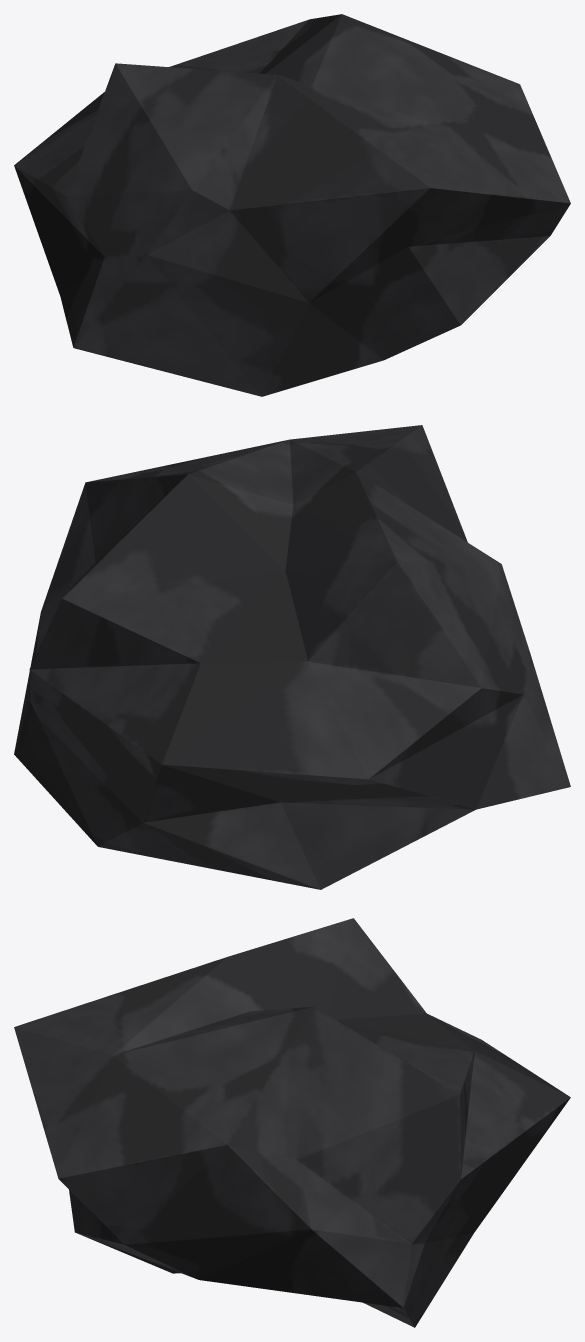
Rendered from coal.glb.
3 views of the same model, one above another, from view 1: azimuth 30°, elevation 25°; view 2: azimuth 150°, elevation 25°; view 3: azimuth 270°, elevation 25° (orthographic). The views are drawn at different scales.
Parts seen in each view (by area): view 1: stone_1; view 2: stone_1; view 3: stone_1.
Boxes of the visible parts, bbox=[...] form: stone_1: bbox=[14, 14, 570, 396]; stone_1: bbox=[14, 425, 570, 889]; stone_1: bbox=[14, 918, 570, 1327].
Size of the model in its own units: 0.3195 by 0.2107 by 0.3473.
Materials: 1 (1 with a texture image).
